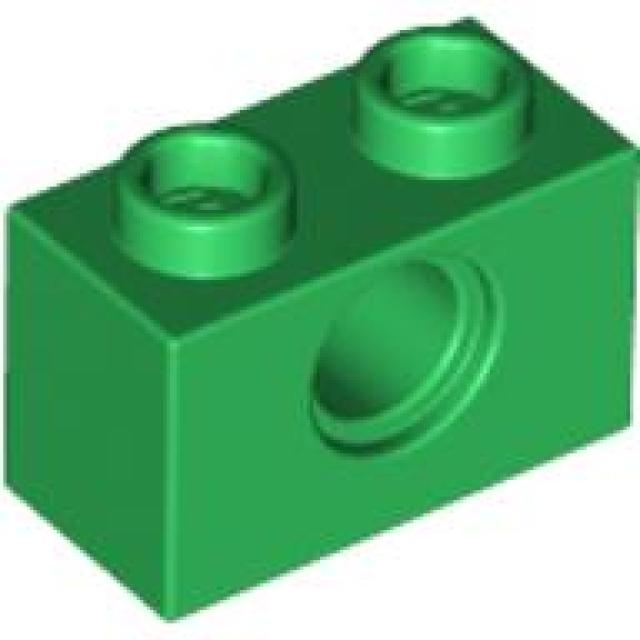Green_Small: (3, 17, 640, 623)
